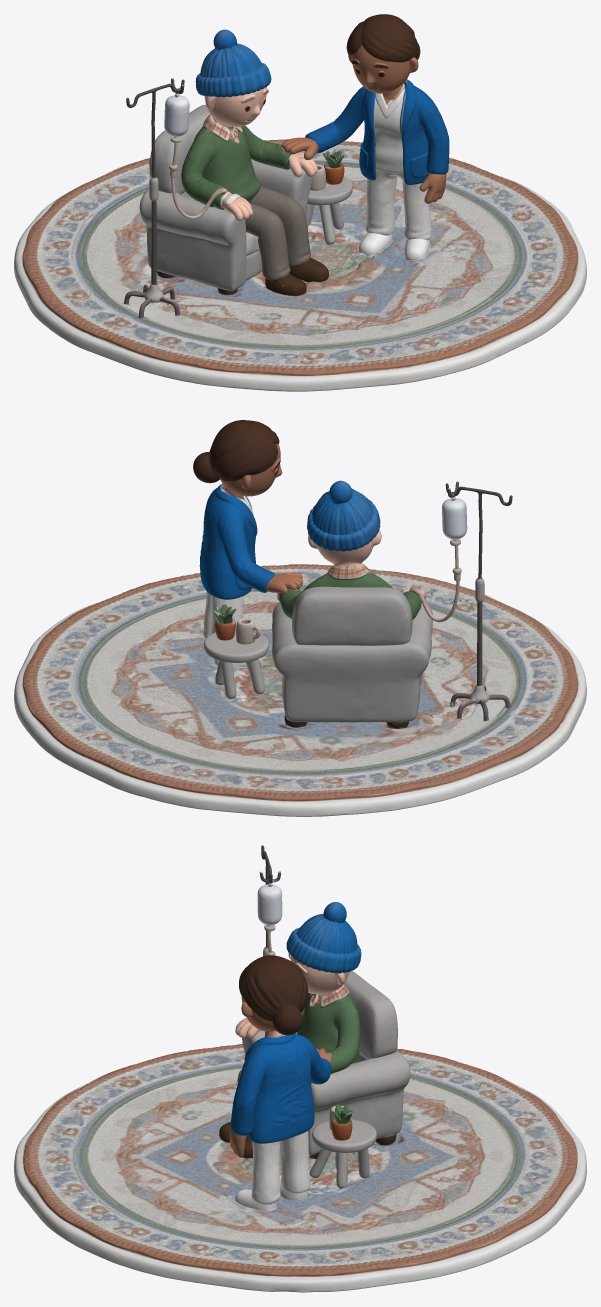
Rendered from landing2.glb.
The picture shows the model from 3 angles, top to bottom: view 1: azimuth 30°, elevation 25°; view 2: azimuth 150°, elevation 25°; view 3: azimuth 270°, elevation 25°; orthographic projection.
Size of the model in its own units: 1.9 by 0.9055 by 1.9.
1 material, 1 textured.
